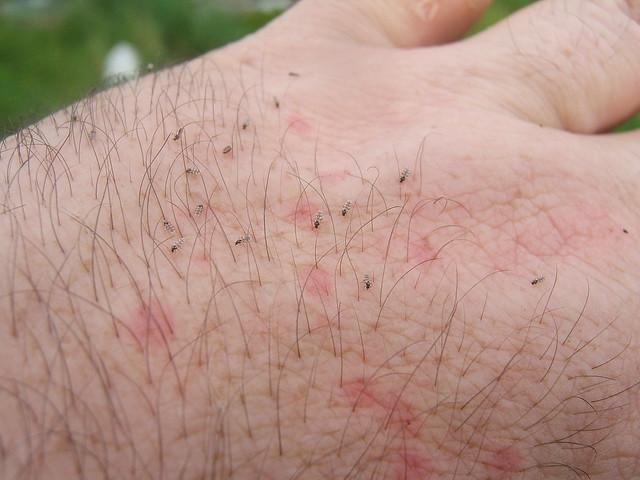Fleas: (122, 298, 180, 358), (336, 374, 397, 418), (275, 192, 327, 239), (379, 394, 424, 444), (484, 441, 530, 480), (279, 110, 315, 141), (301, 265, 331, 299), (162, 242, 198, 259), (227, 234, 254, 250), (528, 274, 547, 289)
